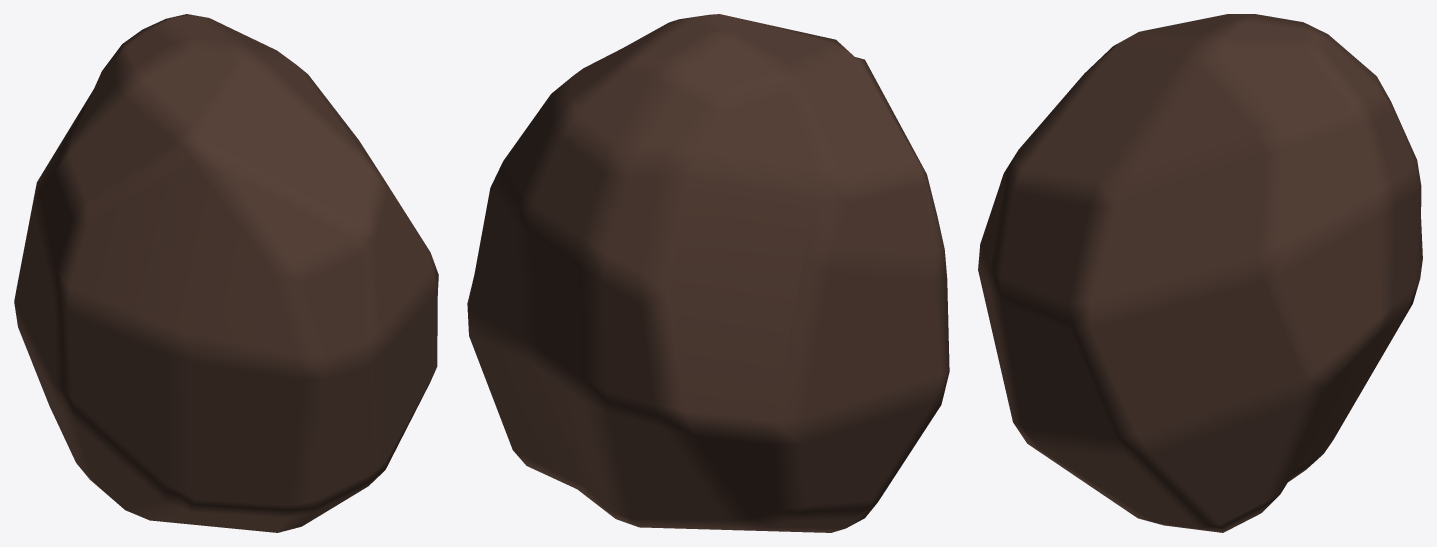
File: Blokout_steen_03.fbx
The picture shows the model from 3 angles, left to right: view 1: azimuth 30°, elevation 25°; view 2: azimuth 150°, elevation 25°; view 3: azimuth 270°, elevation 25°; orthographic projection. The views are drawn at different scales.
Visible parts, largest first — view 1: Cube; view 2: Cube; view 3: Cube.
Part boxes in pixels (x1,y1,x2,y2): Cube: (14,14,438,532); Cube: (467,14,949,532); Cube: (978,14,1422,532).
Size of the model in its own units: 235 by 289 by 251.
